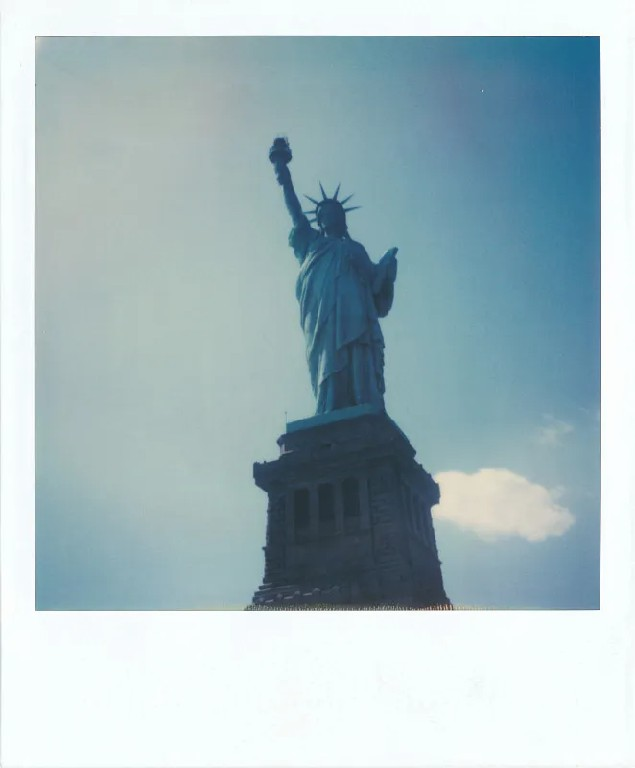SL: (252, 137, 447, 597)
